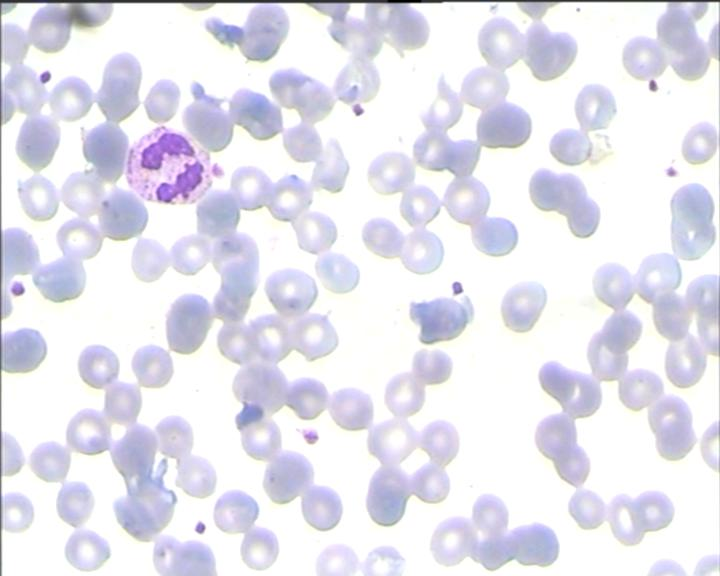neut: (119, 118, 221, 208)
